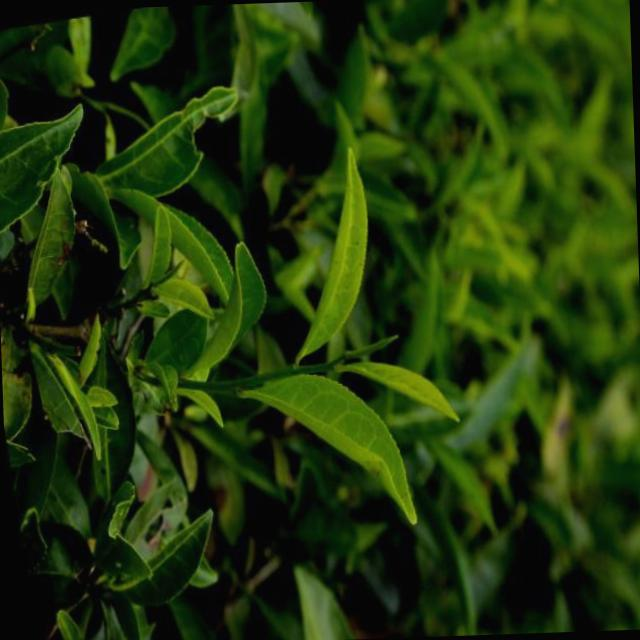Stem: (323, 363, 334, 370)
